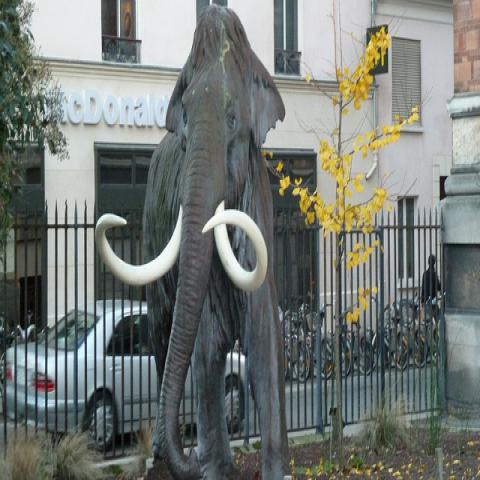car: (1, 299, 245, 448)
motorcycle: (292, 303, 310, 381)
